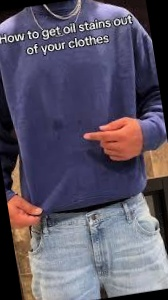oil: (99, 156, 124, 175), (89, 146, 103, 162), (48, 115, 63, 129)
